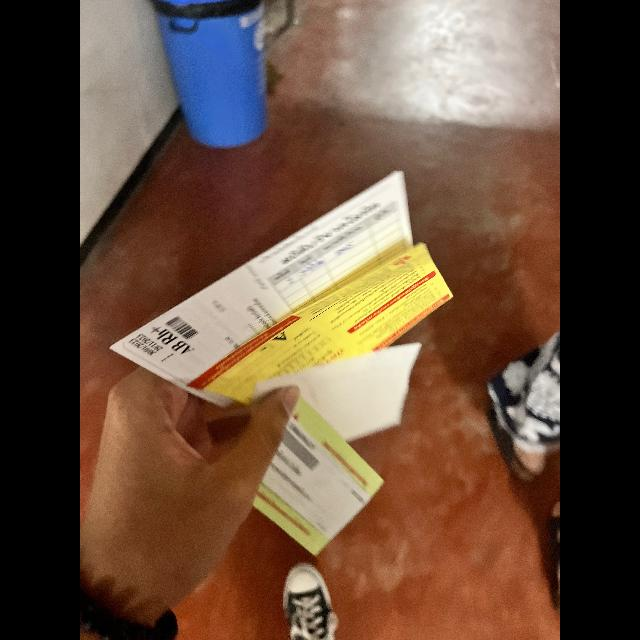scrap_paper: (115, 159, 421, 409), (217, 228, 455, 408), (235, 384, 392, 558), (260, 330, 424, 444)
